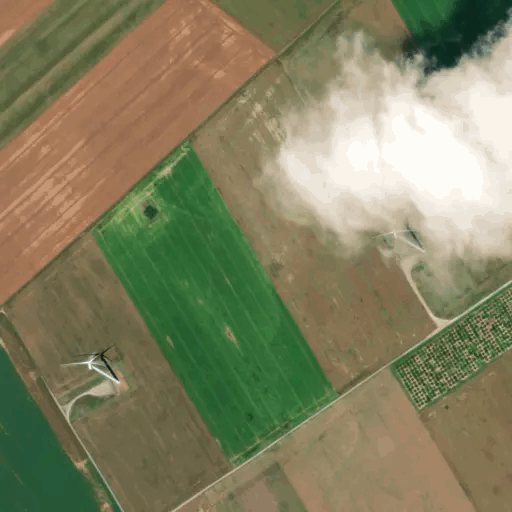wt: (58, 343, 132, 393), (380, 218, 432, 259)
